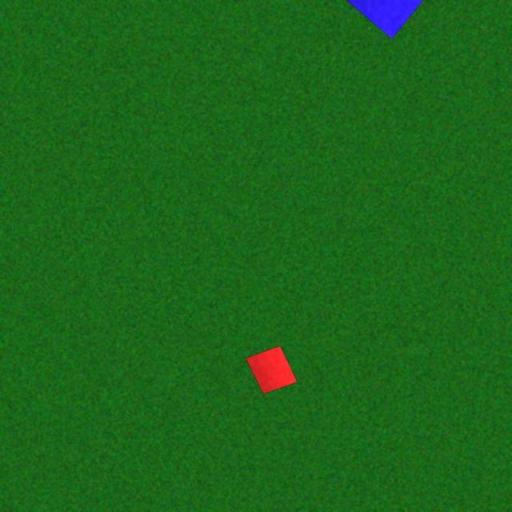BLUE_SQUARE: (330, 0, 444, 39)
RED_SQUARE: (245, 345, 298, 395)
